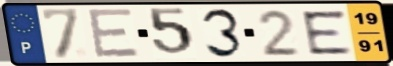2: (255, 8, 301, 58)
3: (197, 7, 244, 60)
5: (145, 7, 197, 60)
7: (40, 7, 84, 62)
E: (85, 7, 142, 61), (298, 8, 355, 57)
